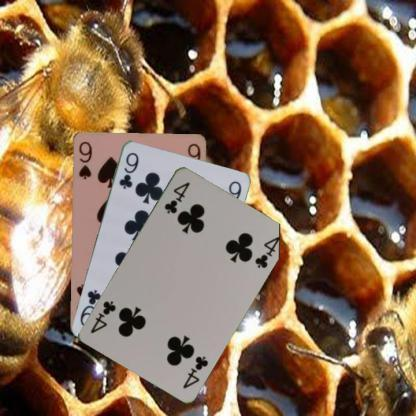4c: (180, 352, 210, 390), (161, 178, 191, 215)
9c: (116, 149, 140, 190)
9s: (76, 139, 94, 180)
